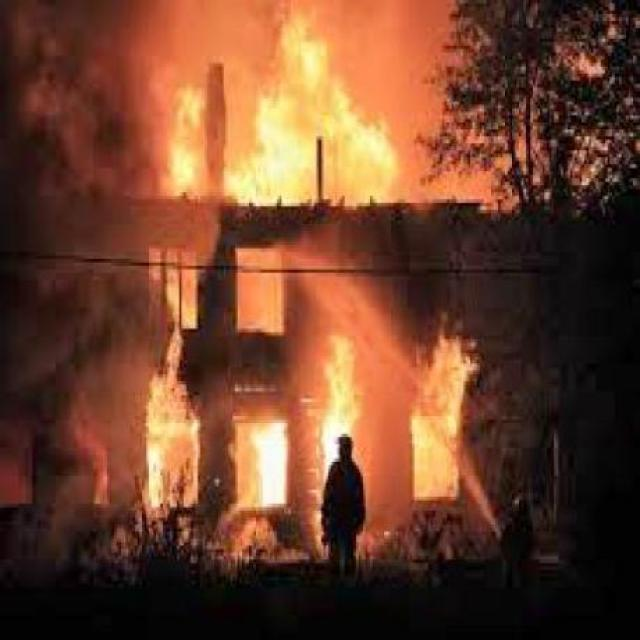Fire: (252, 19, 402, 208), (401, 337, 468, 508), (140, 333, 204, 509), (314, 332, 364, 504), (236, 412, 296, 517), (172, 85, 210, 194)
Smoke: (11, 248, 130, 504), (17, 18, 158, 198)
